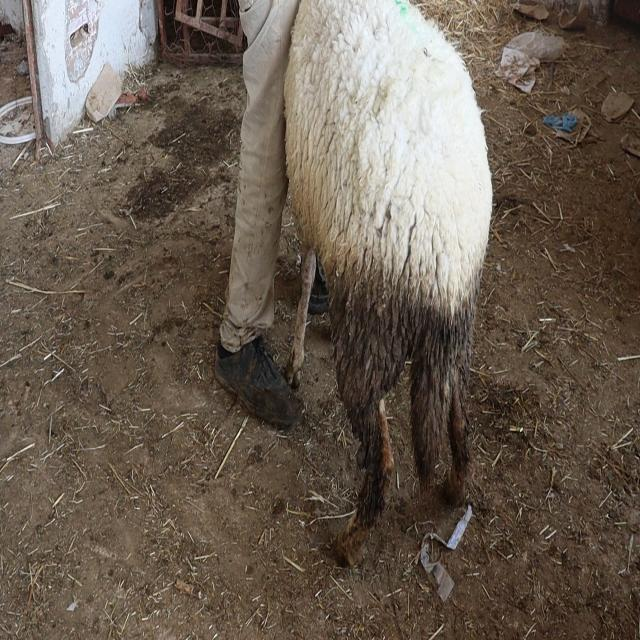Score_5: (284, 0, 491, 562)
